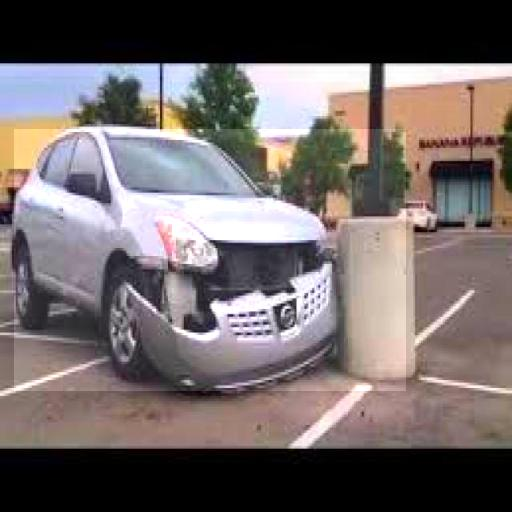小汽车撞物: (14, 129, 406, 391)
